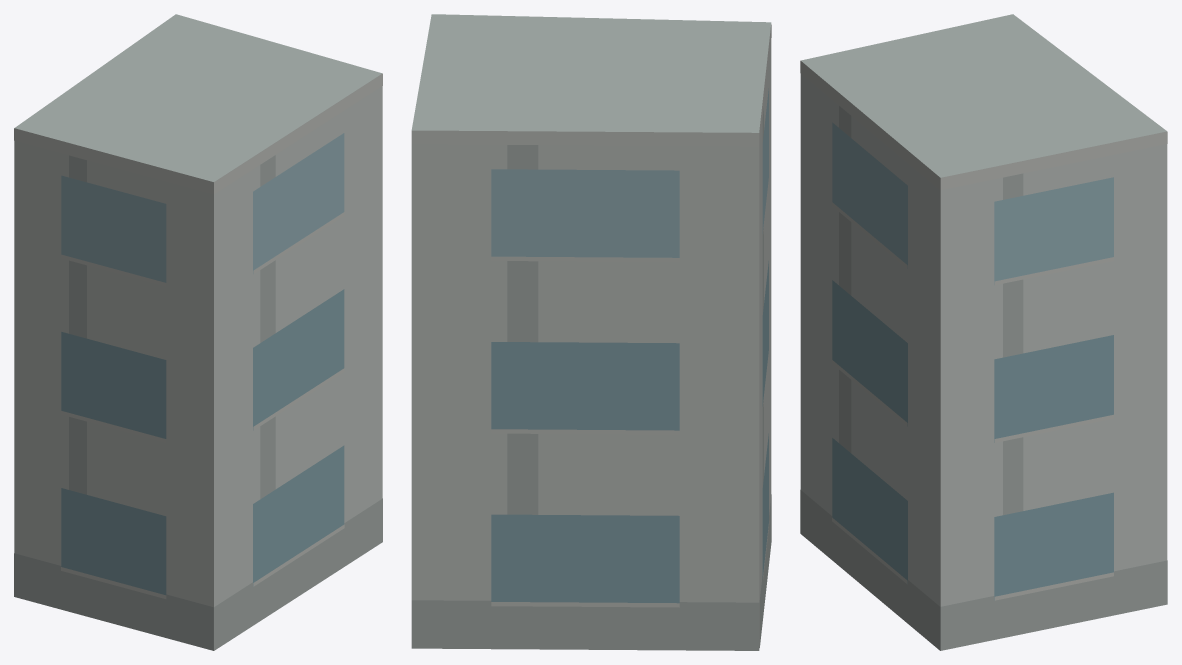
Rendered from survey-upis-32731220.glb.
3 views of the same model, side by side, from view 1: azimuth 30°, elevation 25°; view 2: azimuth 150°, elevation 25°; view 3: azimuth 270°, elevation 25° (orthographic). The views are drawn at different scales.
Parts seen in each view (by area): view 1: survey-upis-32731220.tmp; view 2: survey-upis-32731220.tmp; view 3: survey-upis-32731220.tmp.
Part boxes in pixels (x1,y1,x2,y2): survey-upis-32731220.tmp: (14, 14, 382, 650); survey-upis-32731220.tmp: (411, 14, 771, 650); survey-upis-32731220.tmp: (800, 14, 1167, 650).
Bounding box in the file's own units: 6.8 × 9.15 × 6.44.
